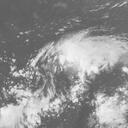cyclone: (56, 32, 119, 74)
